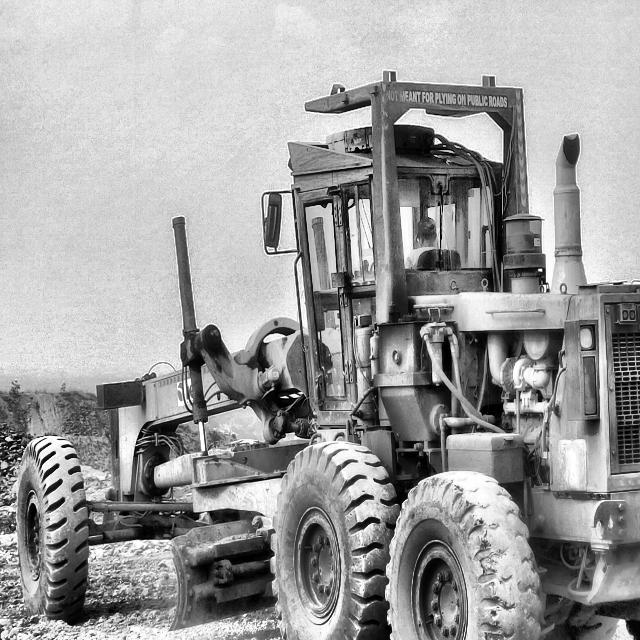buldozerpayloadergrader: (18, 77, 640, 640)
